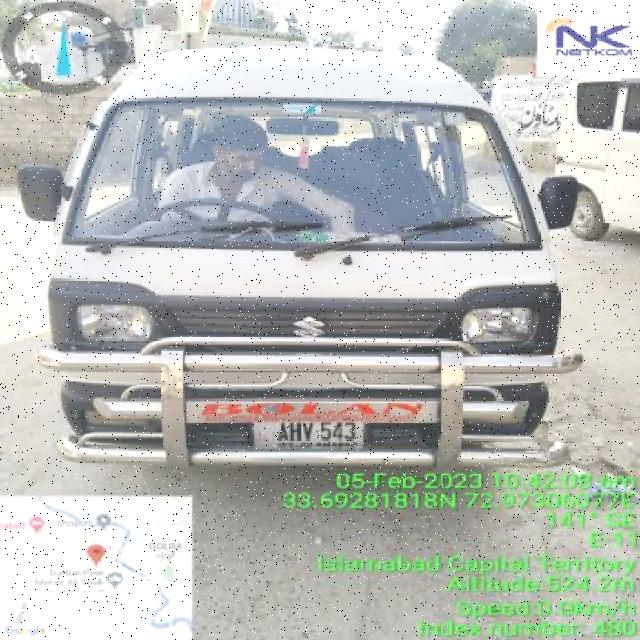licenseplate: (247, 417, 371, 454)
